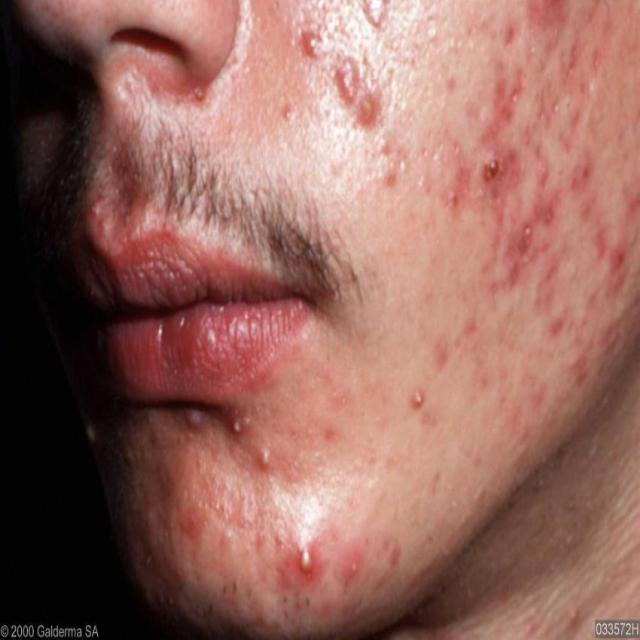Acne: (284, 0, 640, 419), (76, 403, 405, 640)
